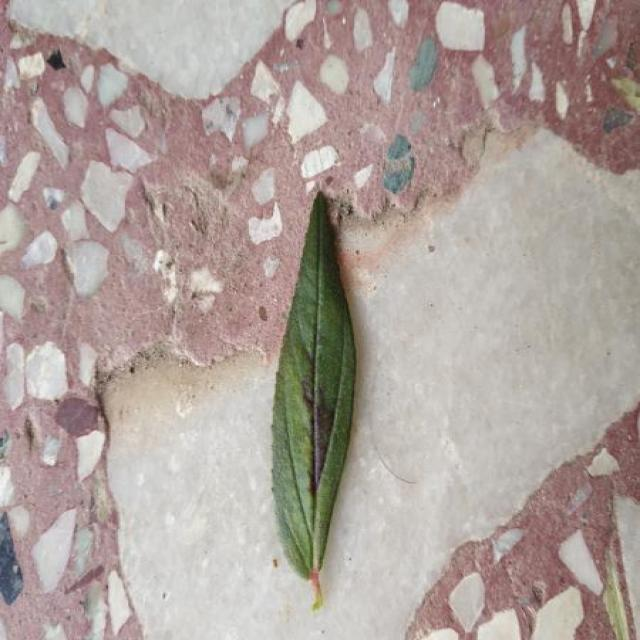Astma_weed: (272, 194, 355, 609)
